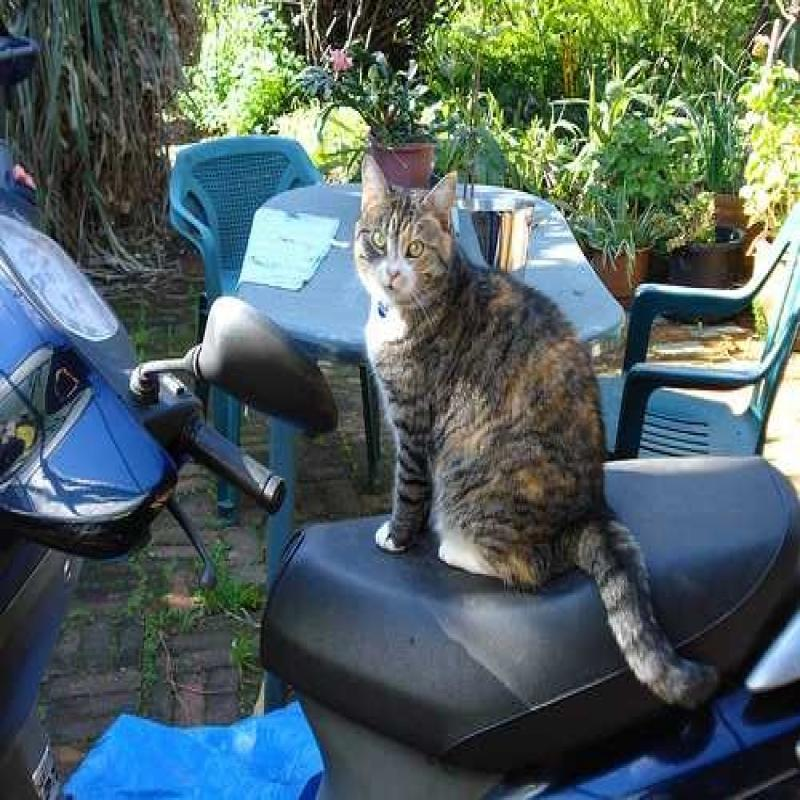bike: (0, 157, 792, 800)
